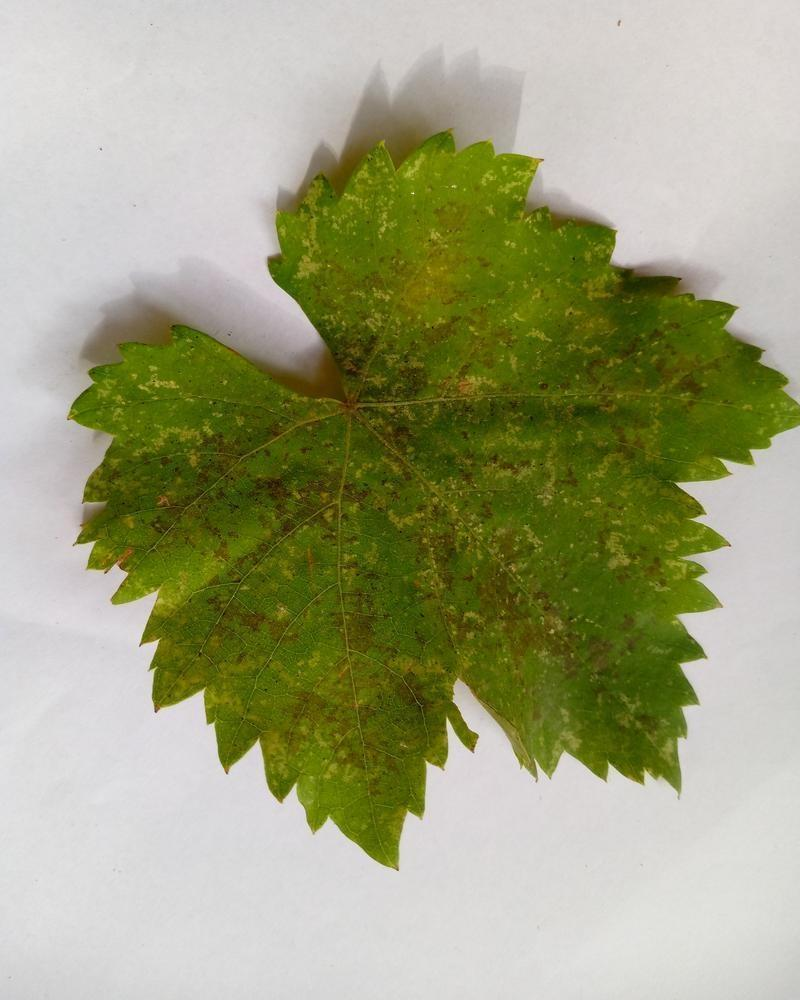Powdery-Mildew: (407, 467, 667, 774), (280, 557, 439, 788), (303, 156, 487, 342), (562, 283, 715, 467), (194, 400, 375, 529), (530, 448, 684, 598), (445, 324, 540, 417)
